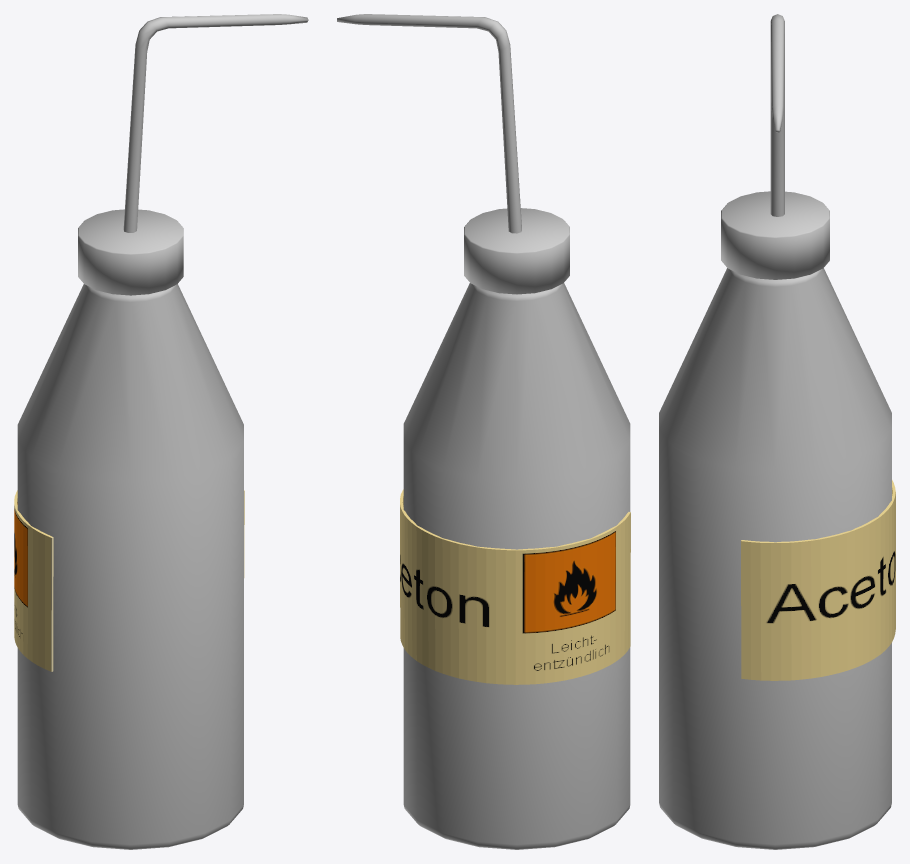
The model's file is Spritzflasche_joined.fbx.
3 renders of one model, left to right at view 1: azimuth 30°, elevation 25°; view 2: azimuth 150°, elevation 25°; view 3: azimuth 270°, elevation 25°, orthographic. The views are drawn at different scales.
Visible parts, largest first — view 1: Label; view 2: Label; view 3: Label.
Part boxes in pixels (<box>): Label: <box>14,14,308,849</box>; Label: <box>337,14,630,849</box>; Label: <box>659,14,895,849</box>.
Size of the model in its own units: 14.01 by 37.33 by 10.01.
2 materials, 1 textured.
